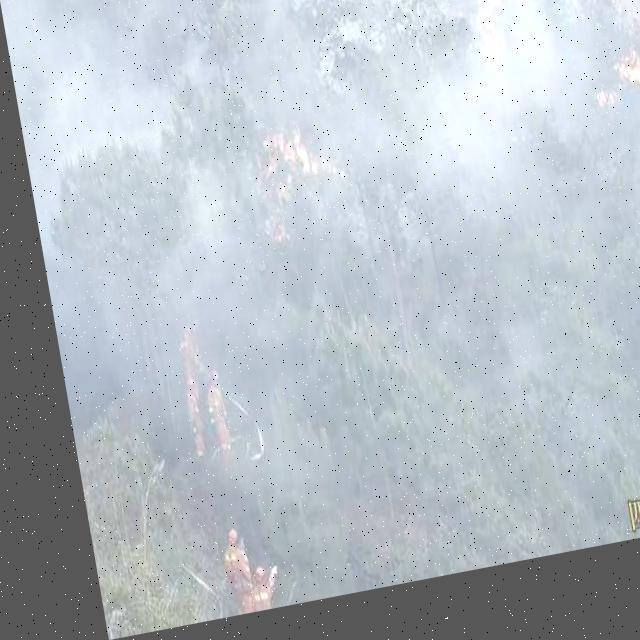Fire: (230, 112, 347, 258), (561, 0, 639, 133), (464, 0, 507, 93)
